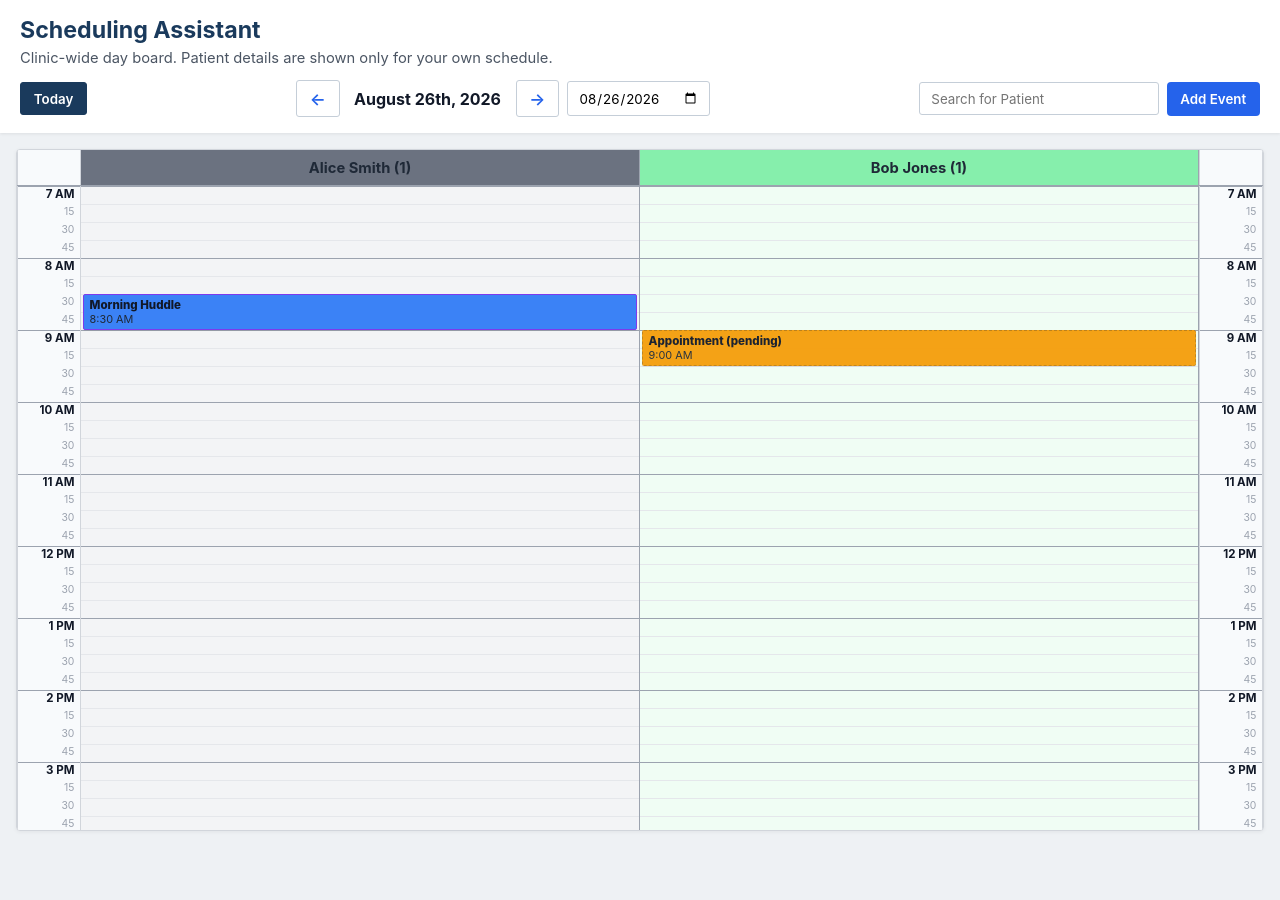
Test: ProviderDashboard.vue › shows events for selected day across providers with redacted other-provider details
Click the button "Appointment (pending) 9:00 AM Appointment pending" at (715, 341), box [642,330,1196,366]
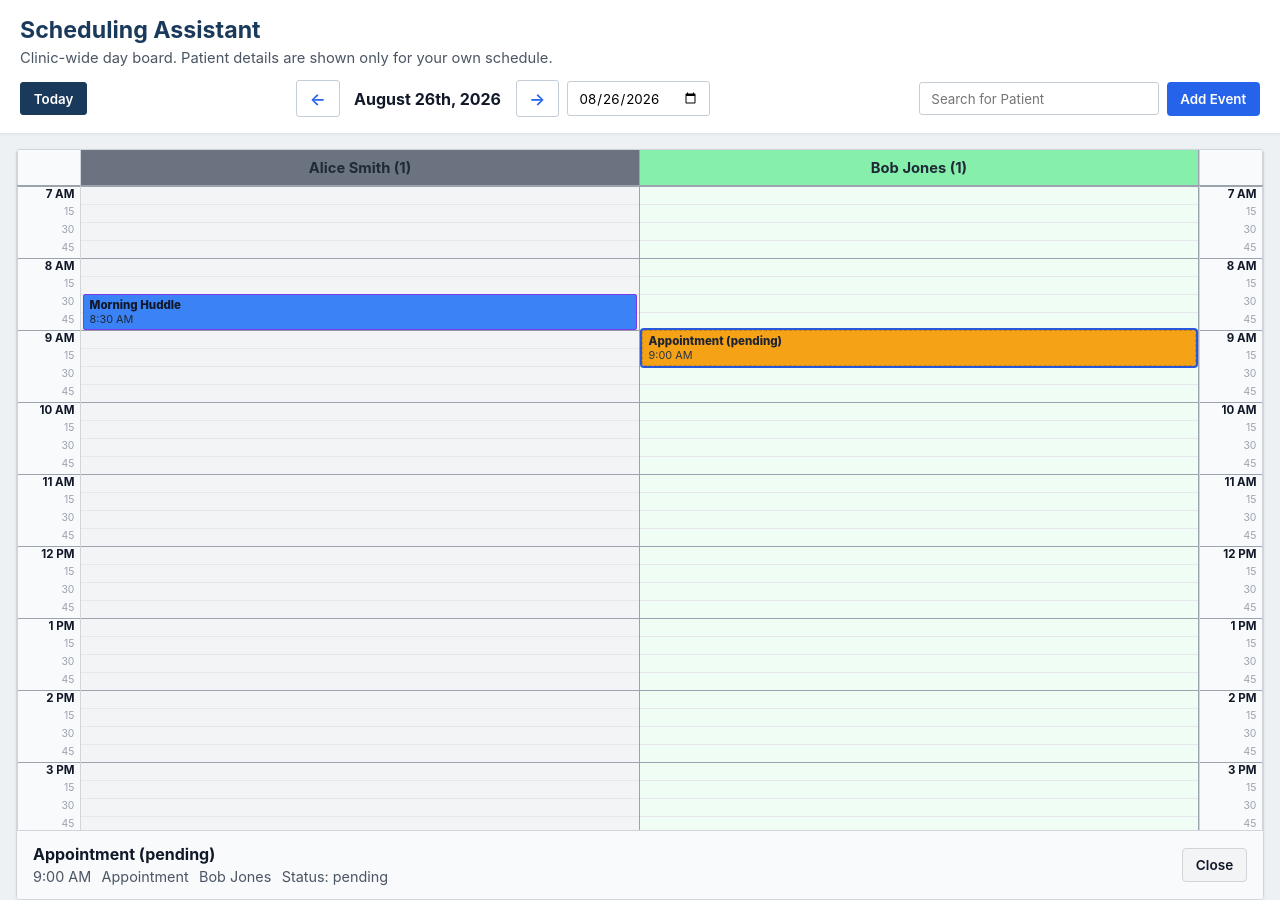
Expected: the element with class "selection-panel" does not show "Edit"
Expected: the element with class "selection-panel" is shown, [17,830,1263,899]
Click the button "Morning Huddle 8:30 AM Meeting" at (135, 305), box [83,294,637,330]
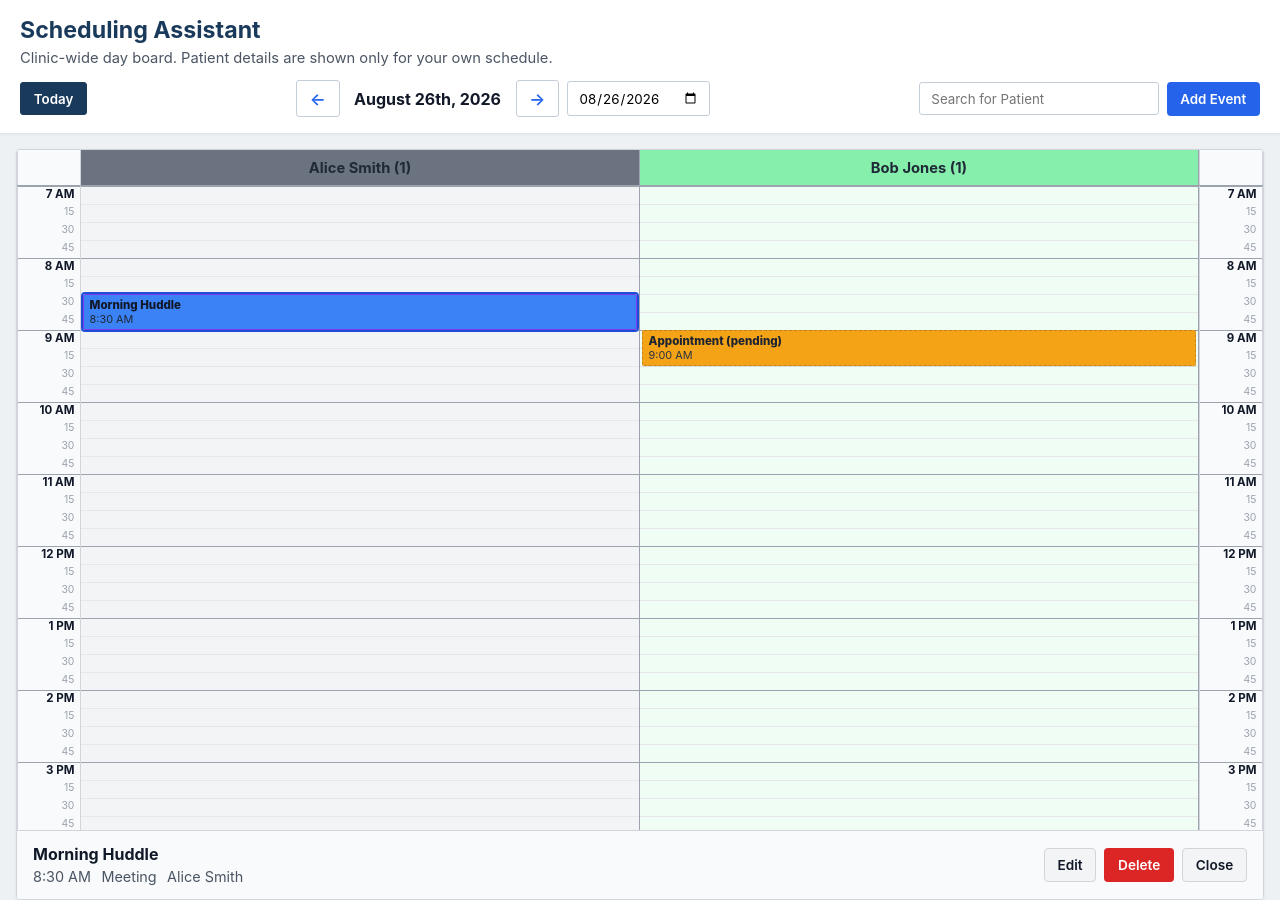
Expected: the element with class "selection-panel" shows "Edit", [1044,848,1096,882]
Expected: the element with class "selection-panel" shows "Delete", [1104,848,1174,882]
